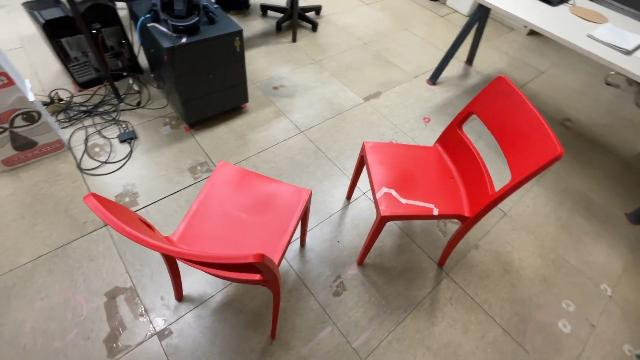Chair: (342, 70, 570, 274), (82, 156, 314, 348)
